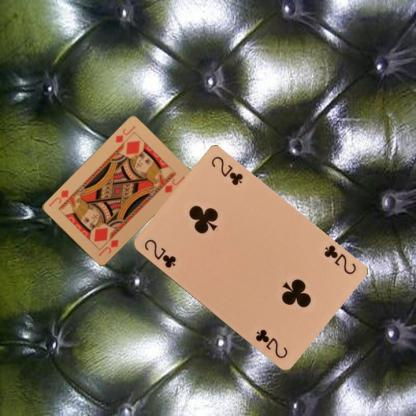2c: (321, 242, 357, 276), (141, 236, 177, 269)
Jd: (113, 123, 137, 145), (96, 237, 120, 258)
